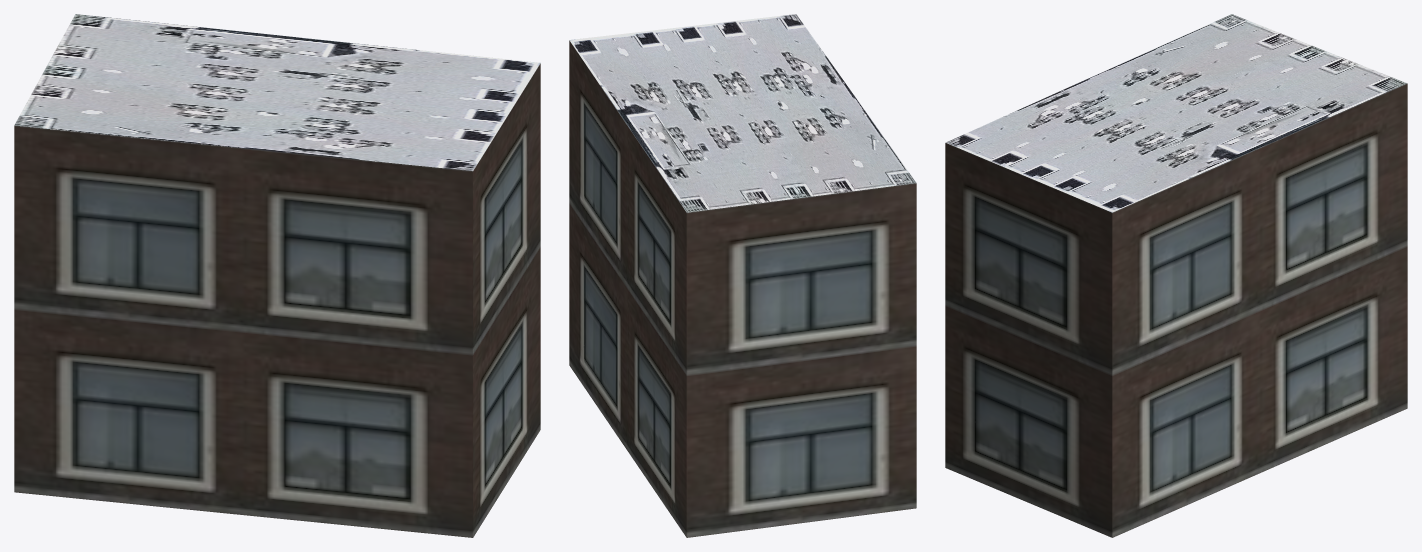
File: ResTex__4110.fbx
The picture shows the model from 3 angles, left to right: view 1: azimuth 30°, elevation 25°; view 2: azimuth 150°, elevation 25°; view 3: azimuth 270°, elevation 25°; orthographic projection. The views are drawn at different scales.
Visible parts, largest first — view 1: CityEngineMaterial_16_m, CityEngineMaterial_15_m; view 2: CityEngineMaterial_16_m, CityEngineMaterial_15_m; view 3: CityEngineMaterial_16_m, CityEngineMaterial_15_m.
Boxes of the visible parts, x1=… form: CityEngineMaterial_16_m: x1=14, y1=63, x2=540, y2=537; CityEngineMaterial_15_m: x1=14, y1=14, x2=540, y2=171; CityEngineMaterial_16_m: x1=569, y1=40, x2=916, y2=537; CityEngineMaterial_15_m: x1=569, y1=14, x2=916, y2=212; CityEngineMaterial_16_m: x1=945, y1=83, x2=1407, y2=537; CityEngineMaterial_15_m: x1=946, y1=14, x2=1406, y2=212.
Size of the model in its own units: 7.86 by 6 by 7.73.
Materials: 2 (2 with a texture image).
